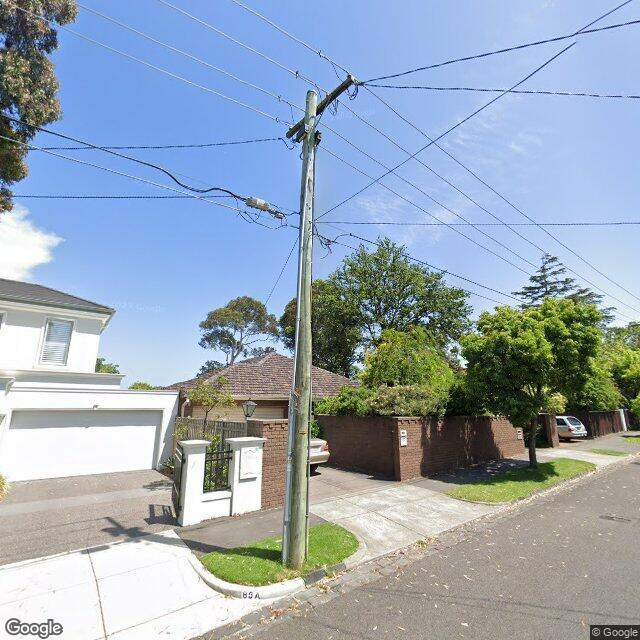crossarm: (276, 49, 362, 139)
timber-pole: (283, 89, 319, 568)
